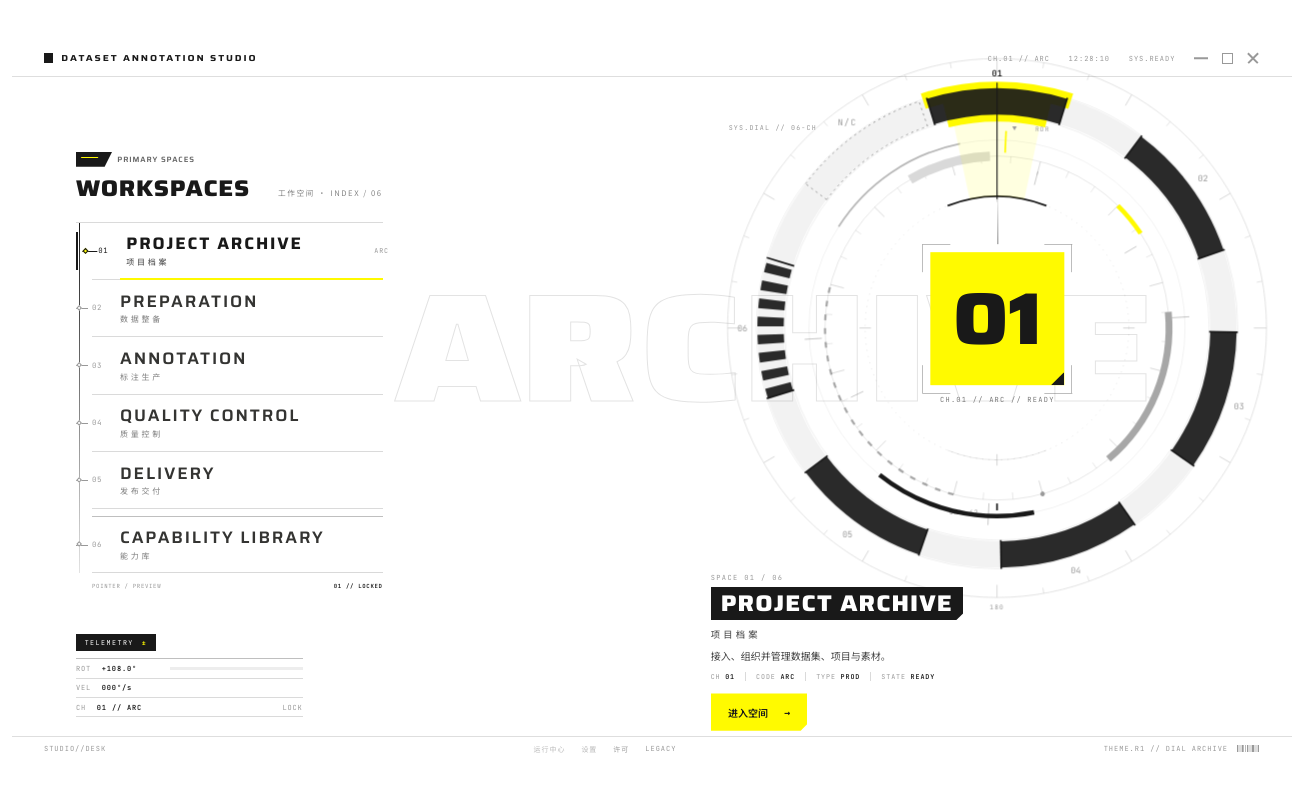
Test: new frontend routes › hands the selected home space to the stable product route while preserving the theme
Click the button with test id "home-enter-space" at (759, 712), box [711,693,807,731]
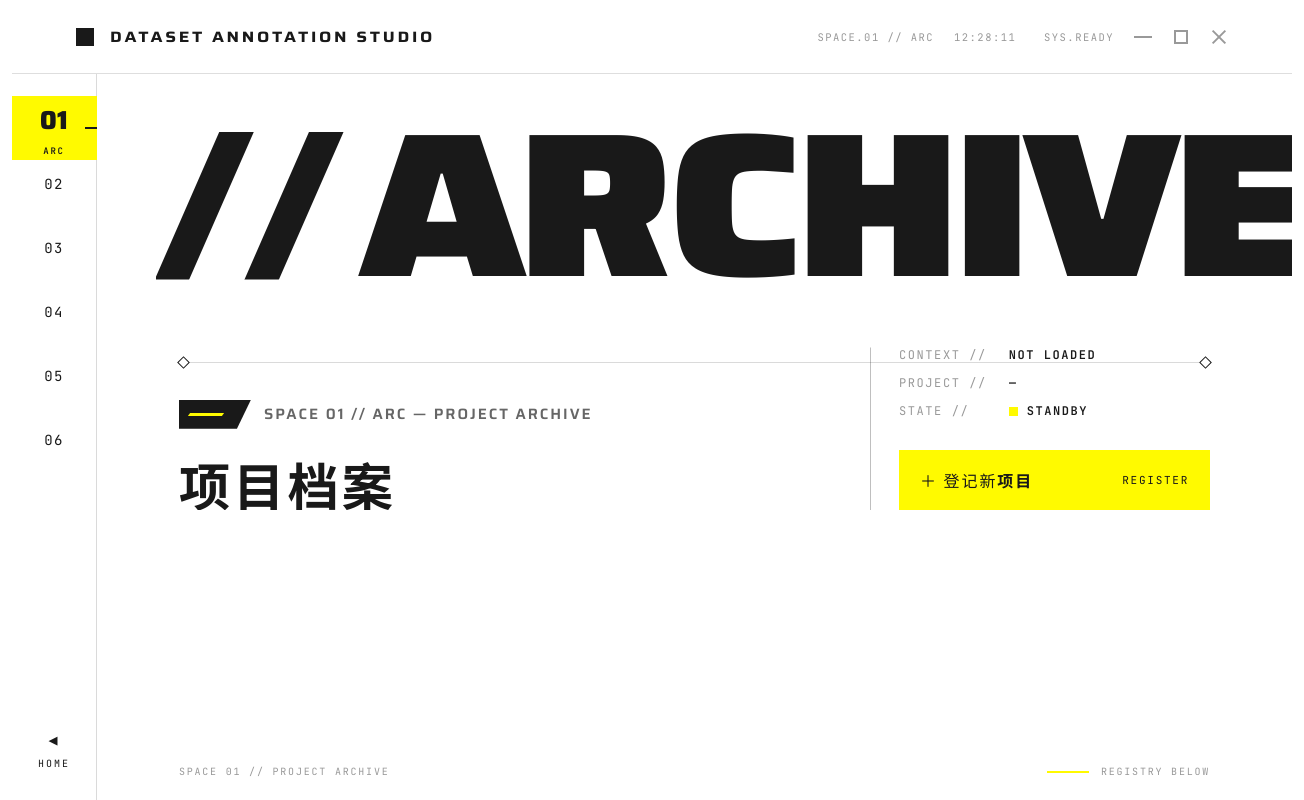
Now the heading "项目档案" is shown, box [179,447,396,521]
